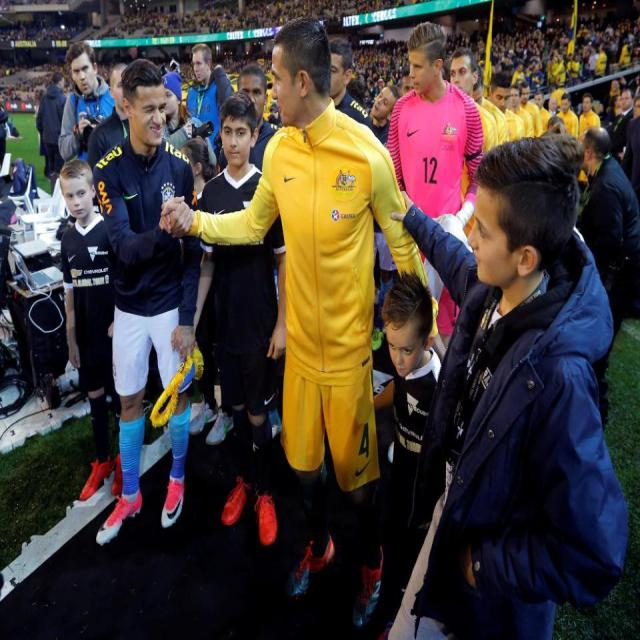body: (157, 12, 452, 636), (383, 130, 639, 639), (0, 0, 639, 183), (89, 51, 204, 549), (191, 88, 288, 547), (385, 20, 486, 351), (368, 269, 444, 615), (58, 155, 125, 503), (0, 122, 45, 389), (366, 83, 405, 353), (447, 44, 501, 204), (582, 124, 640, 262), (57, 39, 116, 168), (218, 64, 277, 177), (88, 62, 150, 162), (185, 42, 235, 164), (86, 61, 132, 174), (162, 72, 216, 166), (36, 69, 70, 197), (177, 137, 217, 212)
